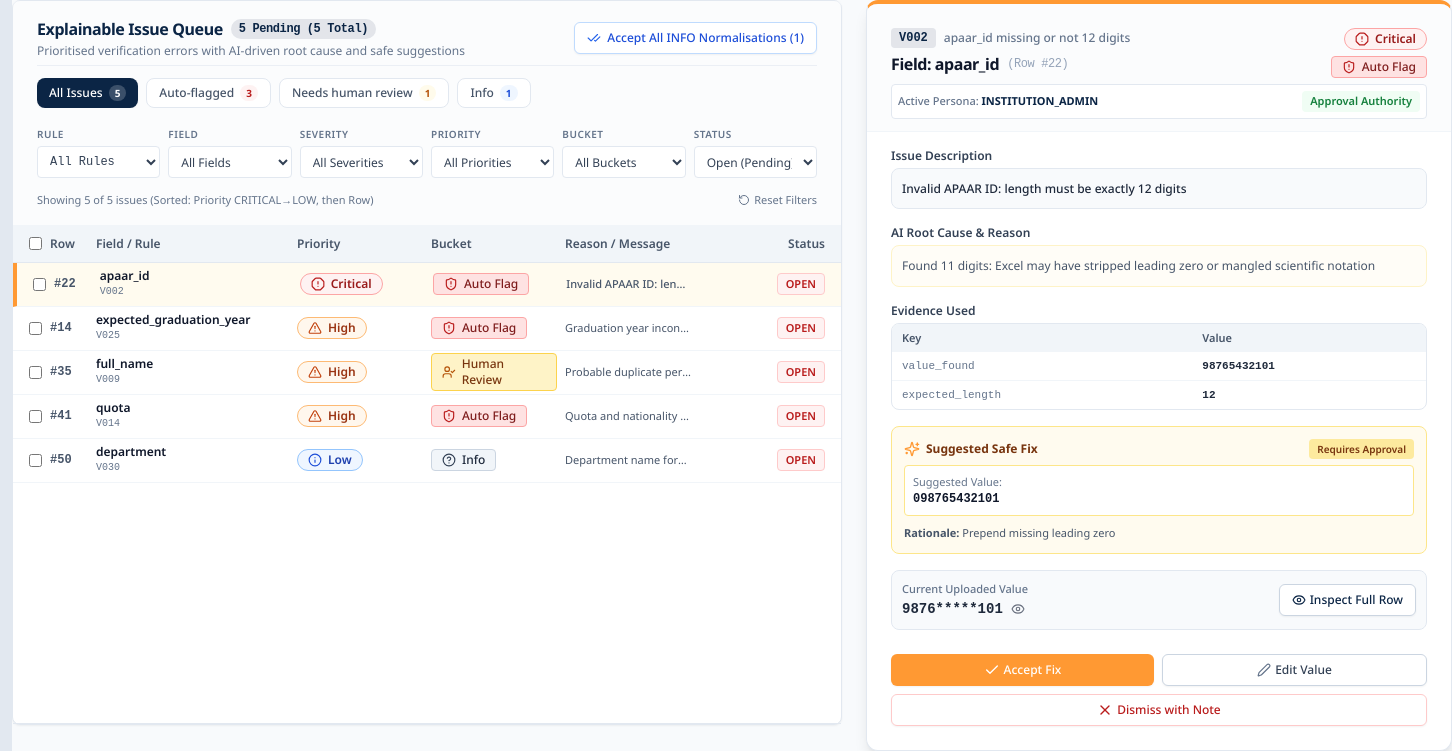
Scenario: Review Workspace & Decision Flow (Task A3) › 2. Issue Card, Evidence Table, Deep Link & Decision Flow (Staff vs Admin) › Admin accepts fix and updates issue status to FIXED
(page scrolled)
Step 1. Click the button "Accept Fix" → (1022, 670), box [891,654,1154,686]
(page scrolled)
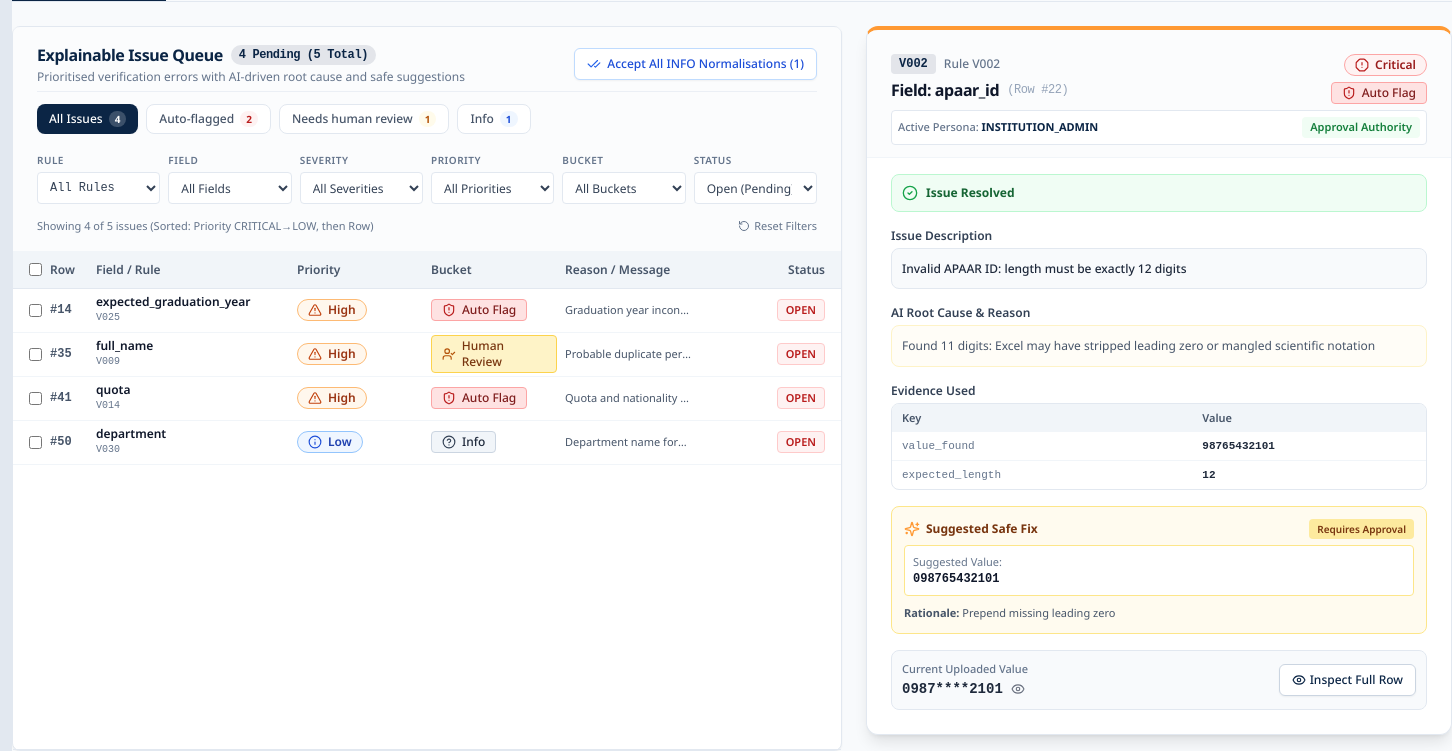
Now the text "Issue Resolved" is shown, box [926,184,1014,200]
